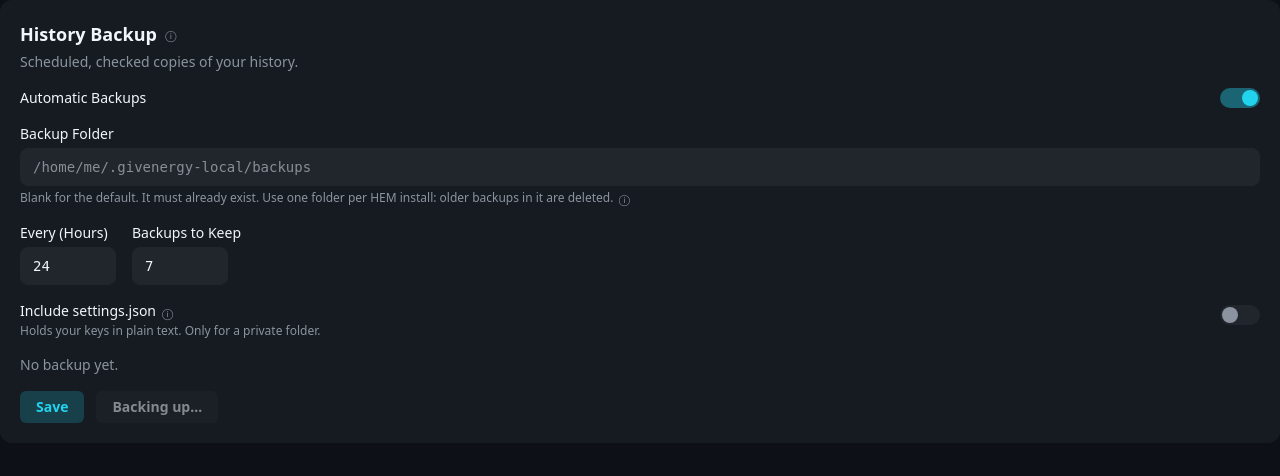
Scenario: HistoryBackupPanel › keeps a toggle's new state when a status check lands mid-save
Click the switch named "Include settings.json".
click(1240, 315)  # box x1=1220 y1=305 x2=1260 y2=325
Wait 3000 ms
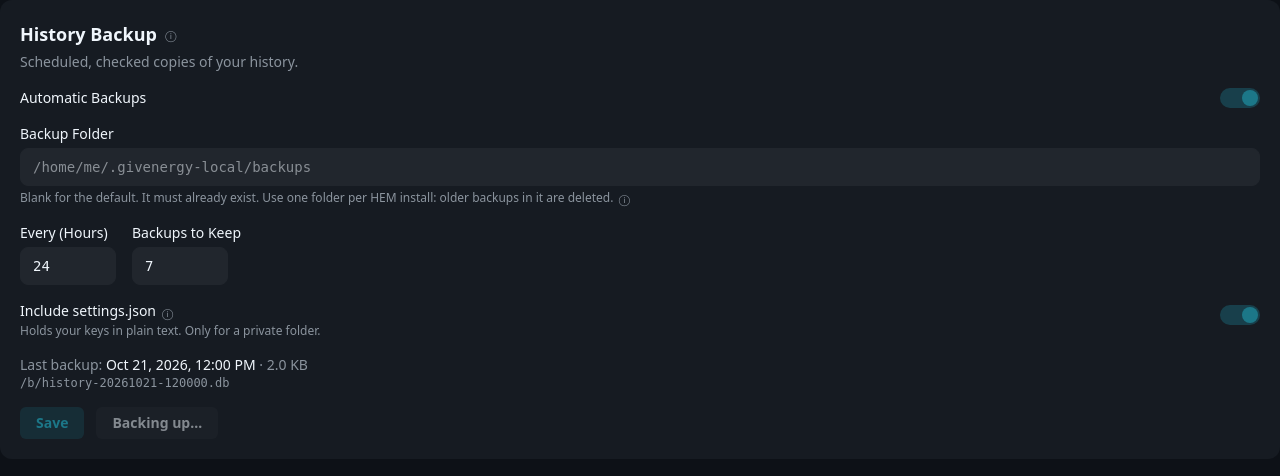
Now the text "2.0 KB" is shown, box x1=267 y1=355 x2=308 y2=374
